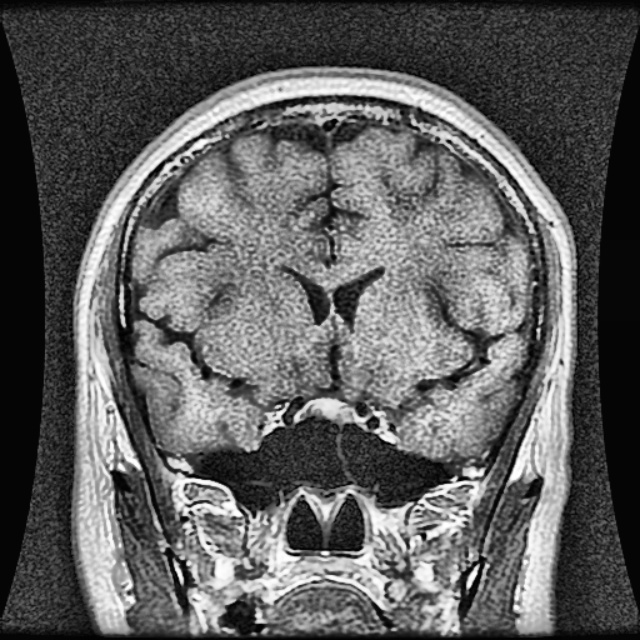Pituitary: (297, 398, 359, 424)
